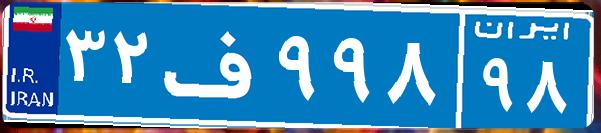2: (110, 28, 158, 105)
3: (57, 26, 110, 107)
8: (385, 28, 445, 110), (525, 38, 570, 115)
9: (273, 28, 330, 110), (330, 28, 385, 110), (475, 38, 525, 113)
ف: (158, 15, 273, 115)
